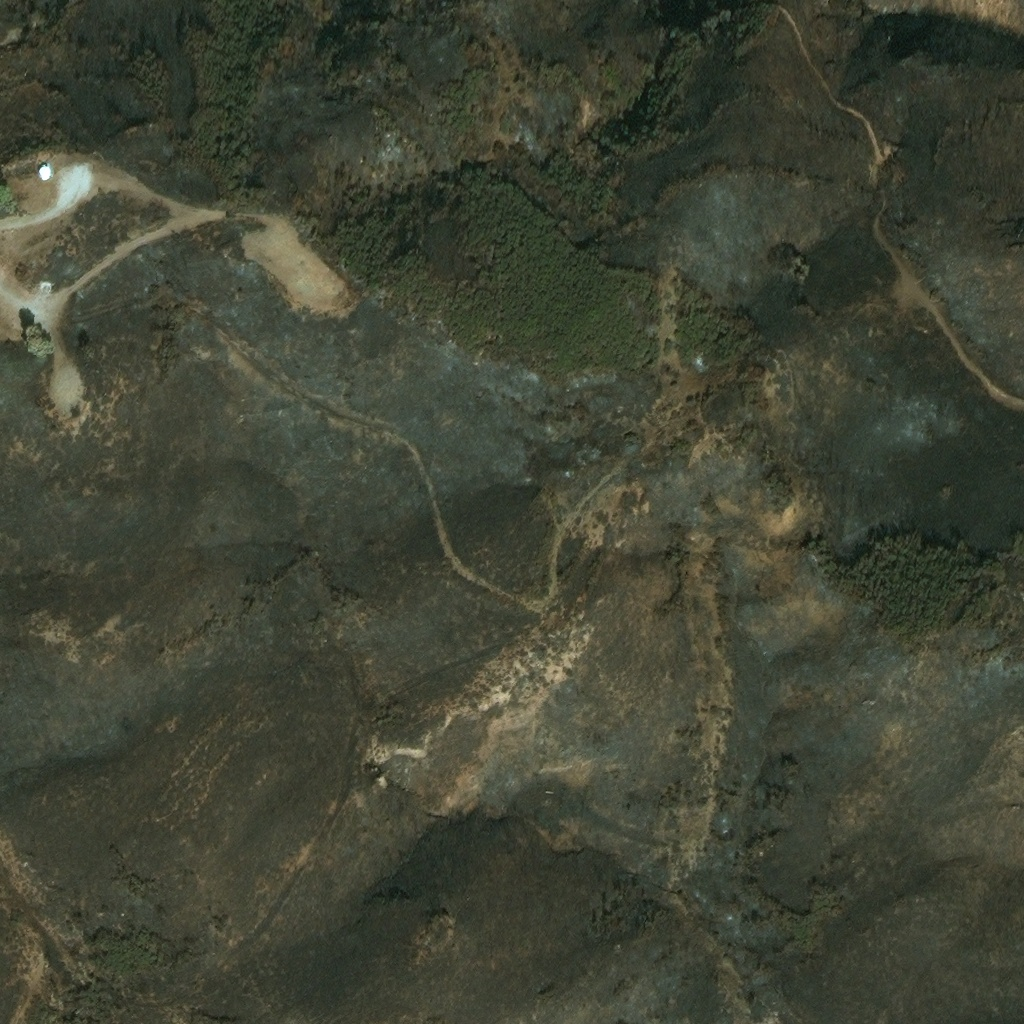0 no-damage: (38, 168, 51, 181)
